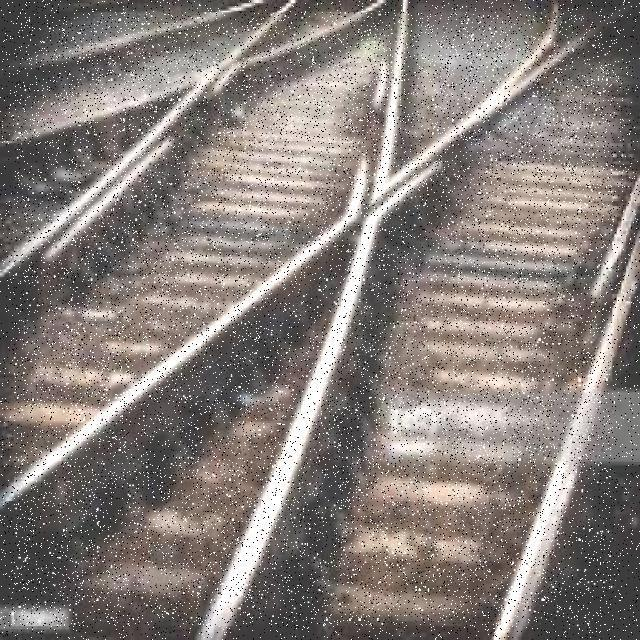rail: (14, 12, 612, 626)
